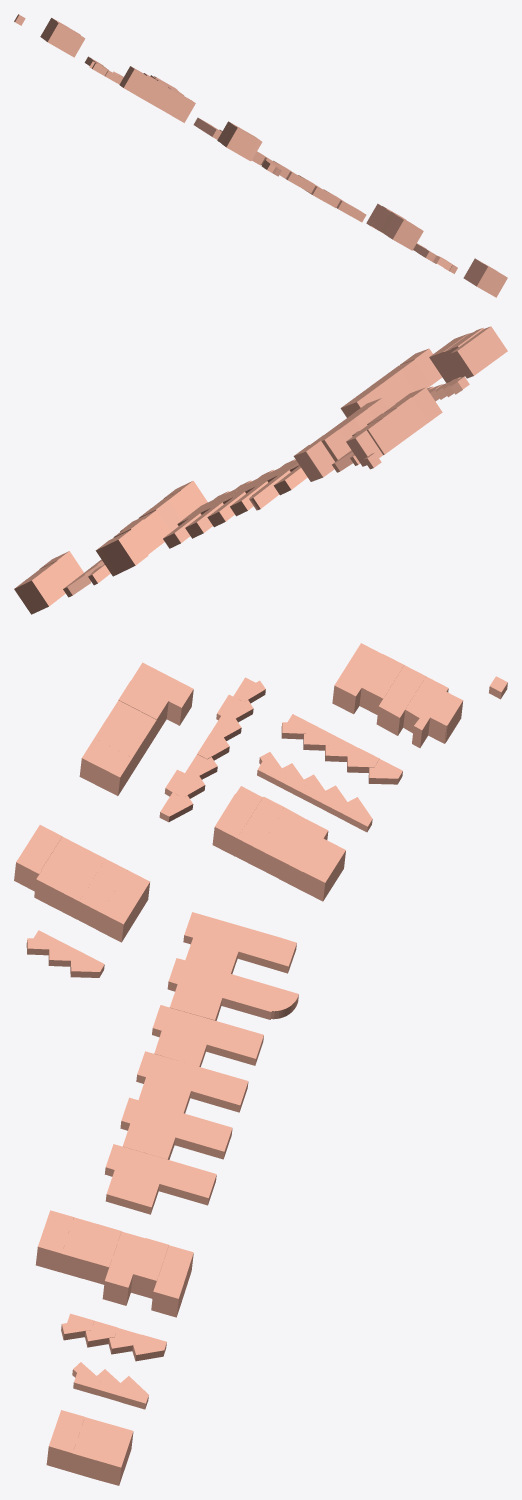
3 renders of one model, top to bottom at view 1: azimuth 30°, elevation 25°; view 2: azimuth 150°, elevation 25°; view 3: azimuth 270°, elevation 25°, orthographic. The views are drawn at different scales.
Size of the model in its own units: 161 by 123 by 103.
